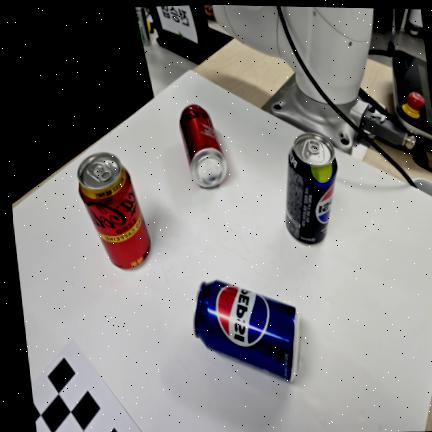can_coke_decaf: (77, 152, 151, 269)
can_coke_zero: (180, 105, 227, 188)
can_pepsi: (193, 280, 301, 381)
can_pepsi_zero: (285, 133, 338, 245)
